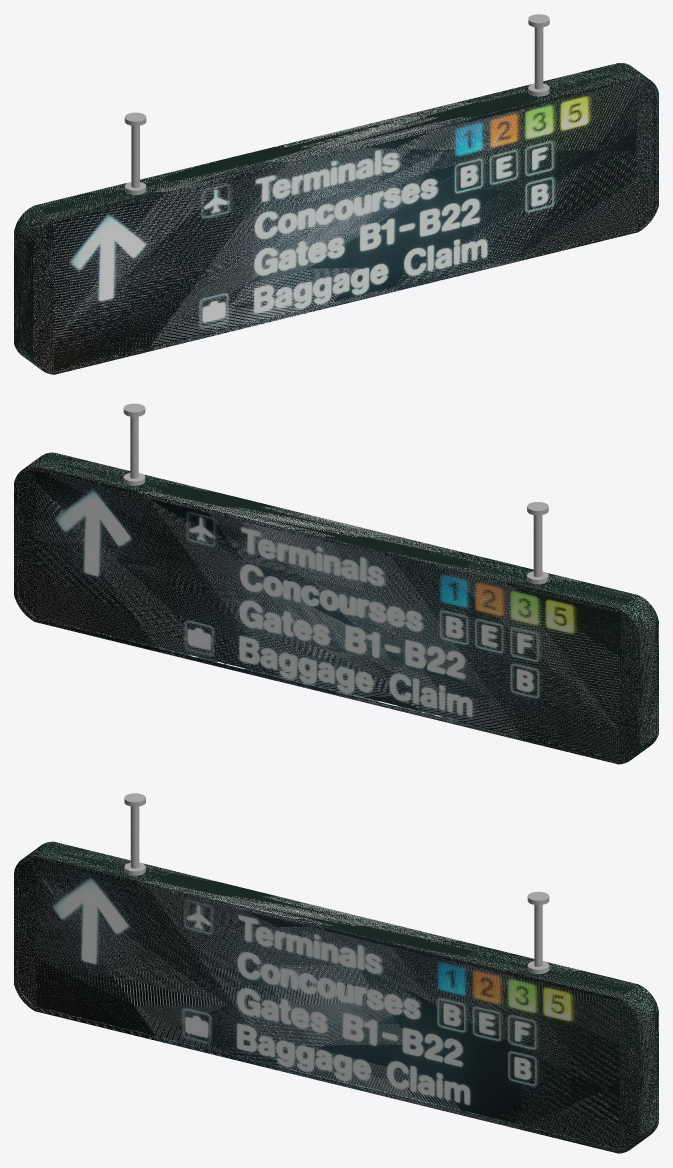
Rendered from sign.dae.
3 renders of one model, top to bottom at view 1: azimuth 30°, elevation 25°; view 2: azimuth 150°, elevation 25°; view 3: azimuth 330°, elevation 25°, orthographic.
Visible parts, largest first — view 1: Group_2 (×3), Component_3 (×2); view 2: Group_2 (×3), Component_3 (×2); view 3: Group_2 (×3), Component_3 (×2).
Part boxes in pixels (x1=…): Group_2 (×3): x1=14, y1=63, x2=658, y2=374; Component_3 (×2): x1=131, y1=17, x2=543, y2=187; Group_2 (×3): x1=14, y1=452, x2=658, y2=764; Component_3 (×2): x1=130, y1=406, x2=542, y2=577; Group_2 (×3): x1=14, y1=841, x2=658, y2=1153; Component_3 (×2): x1=130, y1=796, x2=542, y2=966.
Bounding box in the file's own units: 168 × 9 × 58.66.
Materials: 5 (1 with a texture image).
